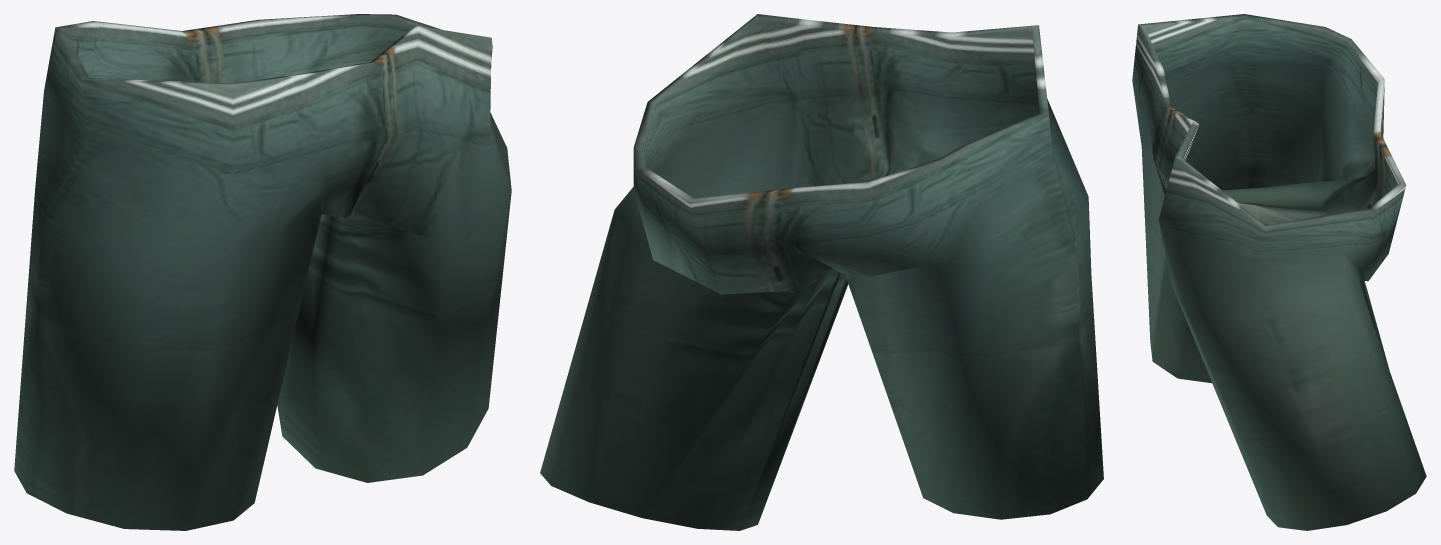
File: Bottom5.fbx
The picture shows the model from 3 angles, left to right: view 1: azimuth 30°, elevation 25°; view 2: azimuth 150°, elevation 25°; view 3: azimuth 270°, elevation 25°; orthographic projection. The views are drawn at different scales.
Parts seen in each view (by area): view 1: F.Bottom.Short.003; view 2: F.Bottom.Short.003; view 3: F.Bottom.Short.003.
Boxes of the visible parts, box(x1,y1,x2,y2) form: F.Bottom.Short.003: box(14, 14, 511, 530); F.Bottom.Short.003: box(540, 14, 1103, 530); F.Bottom.Short.003: box(1132, 14, 1426, 530).
Bounding box in the file's own units: 390 × 375 × 256.
